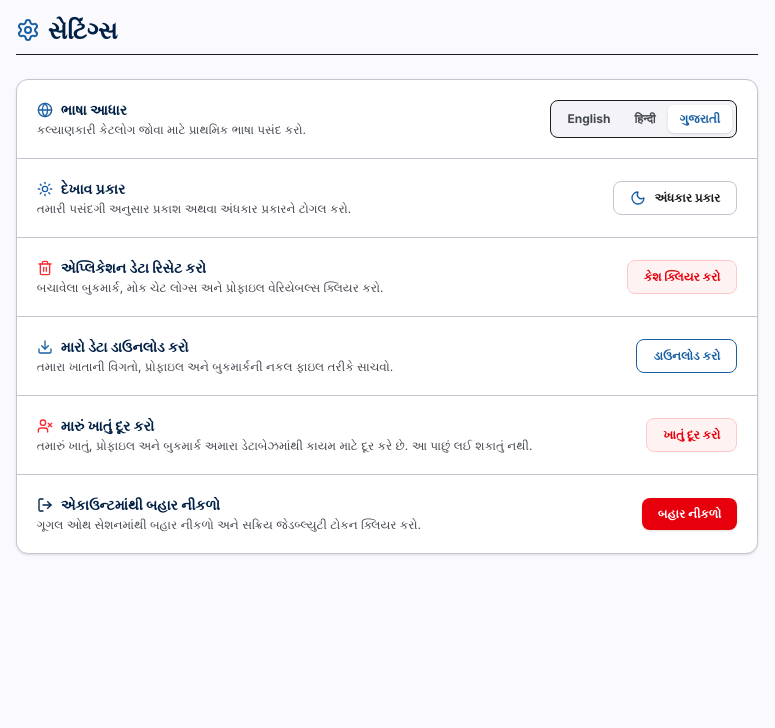
Test case: Settings: download and delete, in gu › asks for a typed confirmation before deleting, in the language
The width and height of the screenshot is (775, 728).
Click the button "ખાતું દૂર કરો". click: (692, 435)
box: [646,418,737,452]
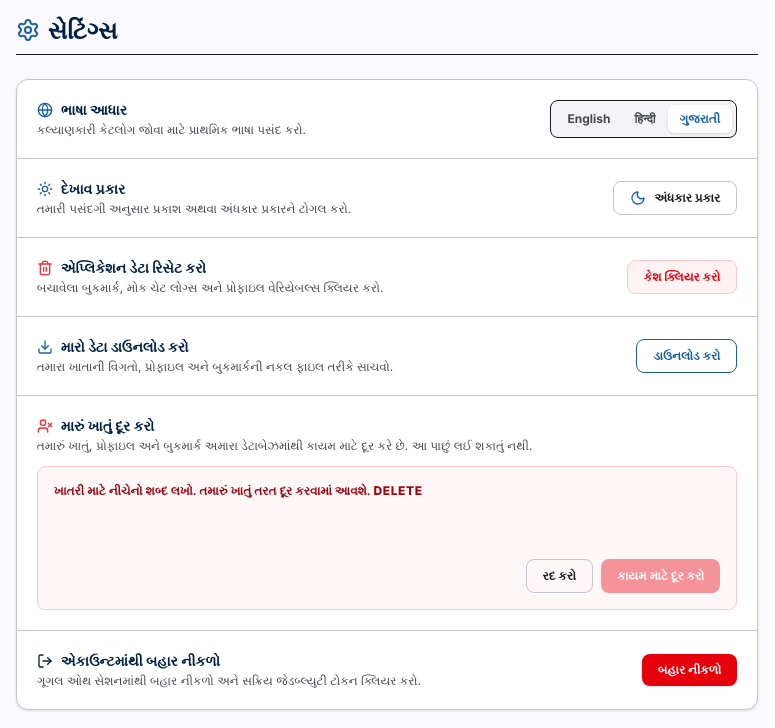
Result: the button "કાયમ માટે દૂર કરો" is disabled at [601,559,720,593]
